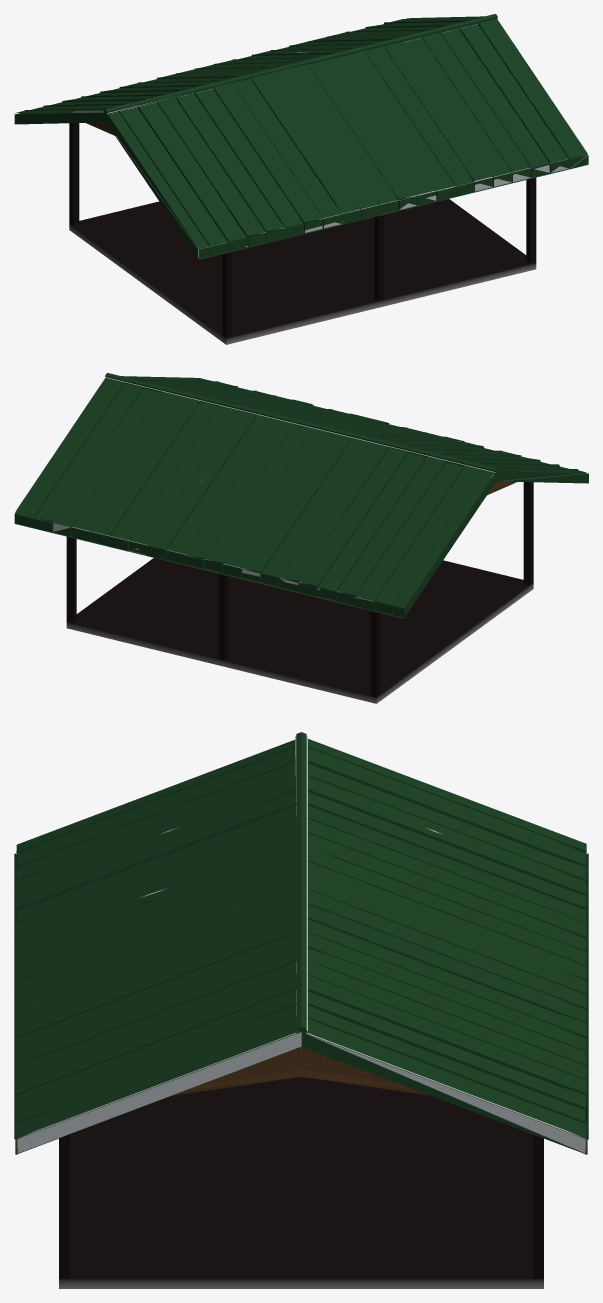
The model's file is rest-shelter.zfix-v10.lod0.glb.
The picture shows the model from 3 angles, top to bottom: view 1: azimuth 30°, elevation 25°; view 2: azimuth 150°, elevation 25°; view 3: azimuth 270°, elevation 25°; orthographic projection. The views are drawn at different scales.
Visible parts, largest first — view 1: Material2; view 2: Material2; view 3: Material2.
Boxes of the visible parts, x1,y1,x2,y2 form: Material2: [14, 14, 588, 344]; Material2: [14, 373, 588, 703]; Material2: [14, 732, 588, 1288].
Bounding box in the file's own units: 10.37 × 4.77 × 8.53.
